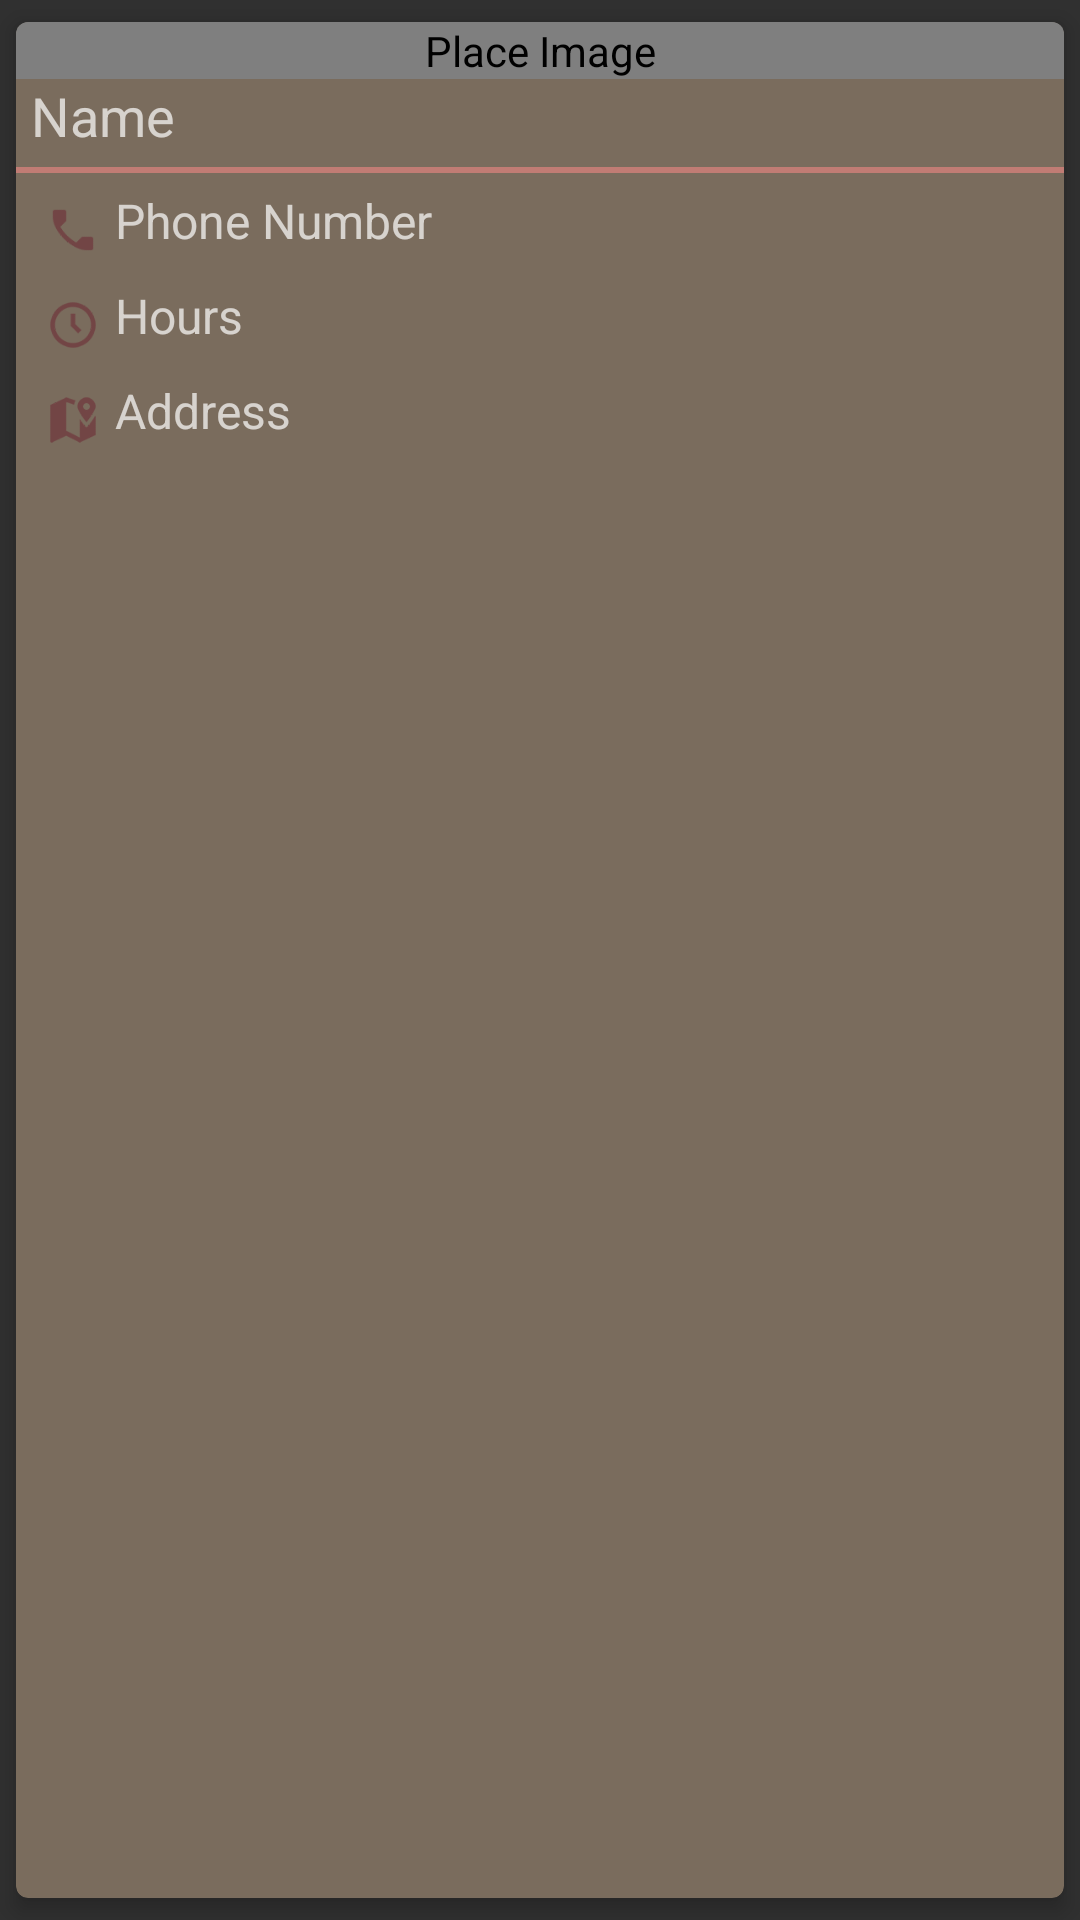

Where icons sit on this 1080 × 1920 app screen, as (x1=x1, y1=y1, x2=x2, y2=y2):
placescard map: (x1=50, y1=397, x2=96, y2=442)
placescard phone: (x1=53, y1=210, x2=93, y2=250)
placescard time: (x1=50, y1=302, x2=96, y2=348)
